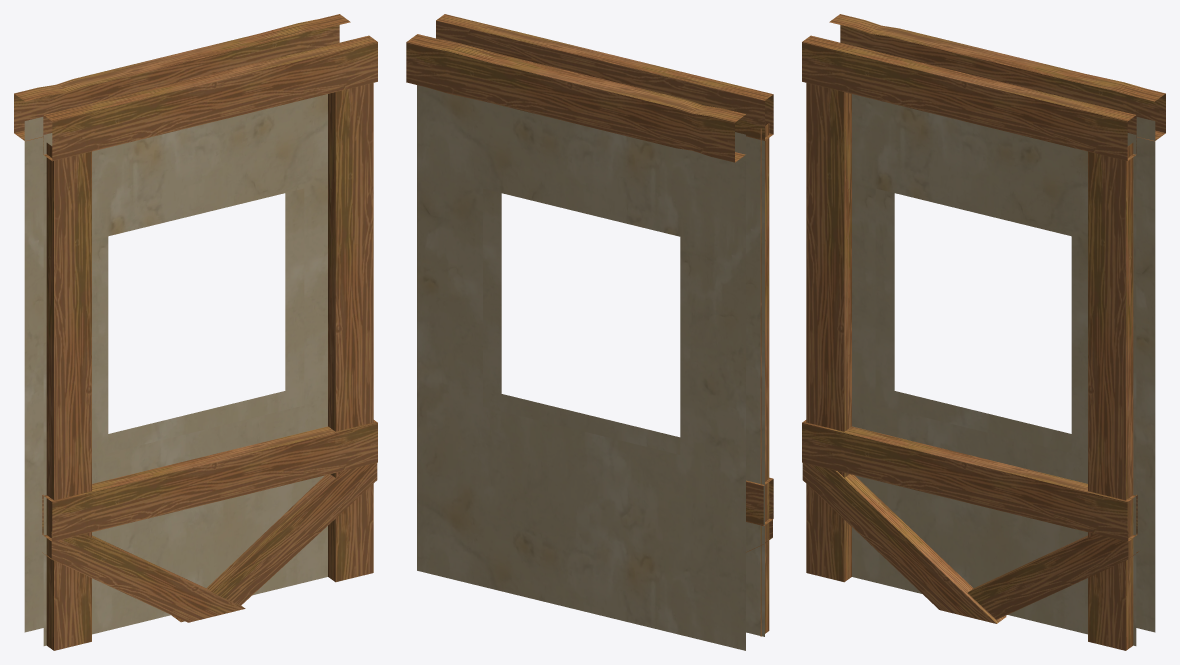
Rendered from Wall_Plaster_Window_Wide_Flat2.gltf.
The picture shows the model from 3 angles, left to right: view 1: azimuth 30°, elevation 25°; view 2: azimuth 150°, elevation 25°; view 3: azimuth 330°, elevation 25°; orthographic projection.
Parts seen in each view (by area): view 1: Wall_Plaster_Window_Wide_Flat2; view 2: Wall_Plaster_Window_Wide_Flat2; view 3: Wall_Plaster_Window_Wide_Flat2.
Part boxes in pixels (box(x1,y1,x2,y2)): Wall_Plaster_Window_Wide_Flat2: box(14, 14, 377, 650); Wall_Plaster_Window_Wide_Flat2: box(406, 14, 773, 650); Wall_Plaster_Window_Wide_Flat2: box(802, 14, 1165, 650).
Size of the model in its own units: 2 by 3.15 by 0.4065.
2 materials, 2 textured.
